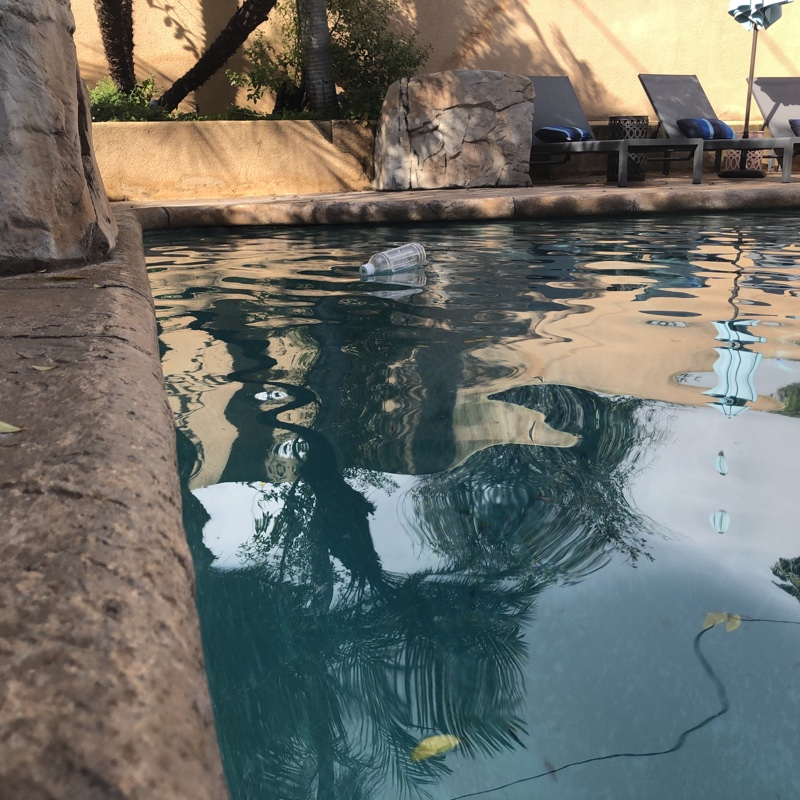Plastic Bottle: (356, 242, 428, 280)
